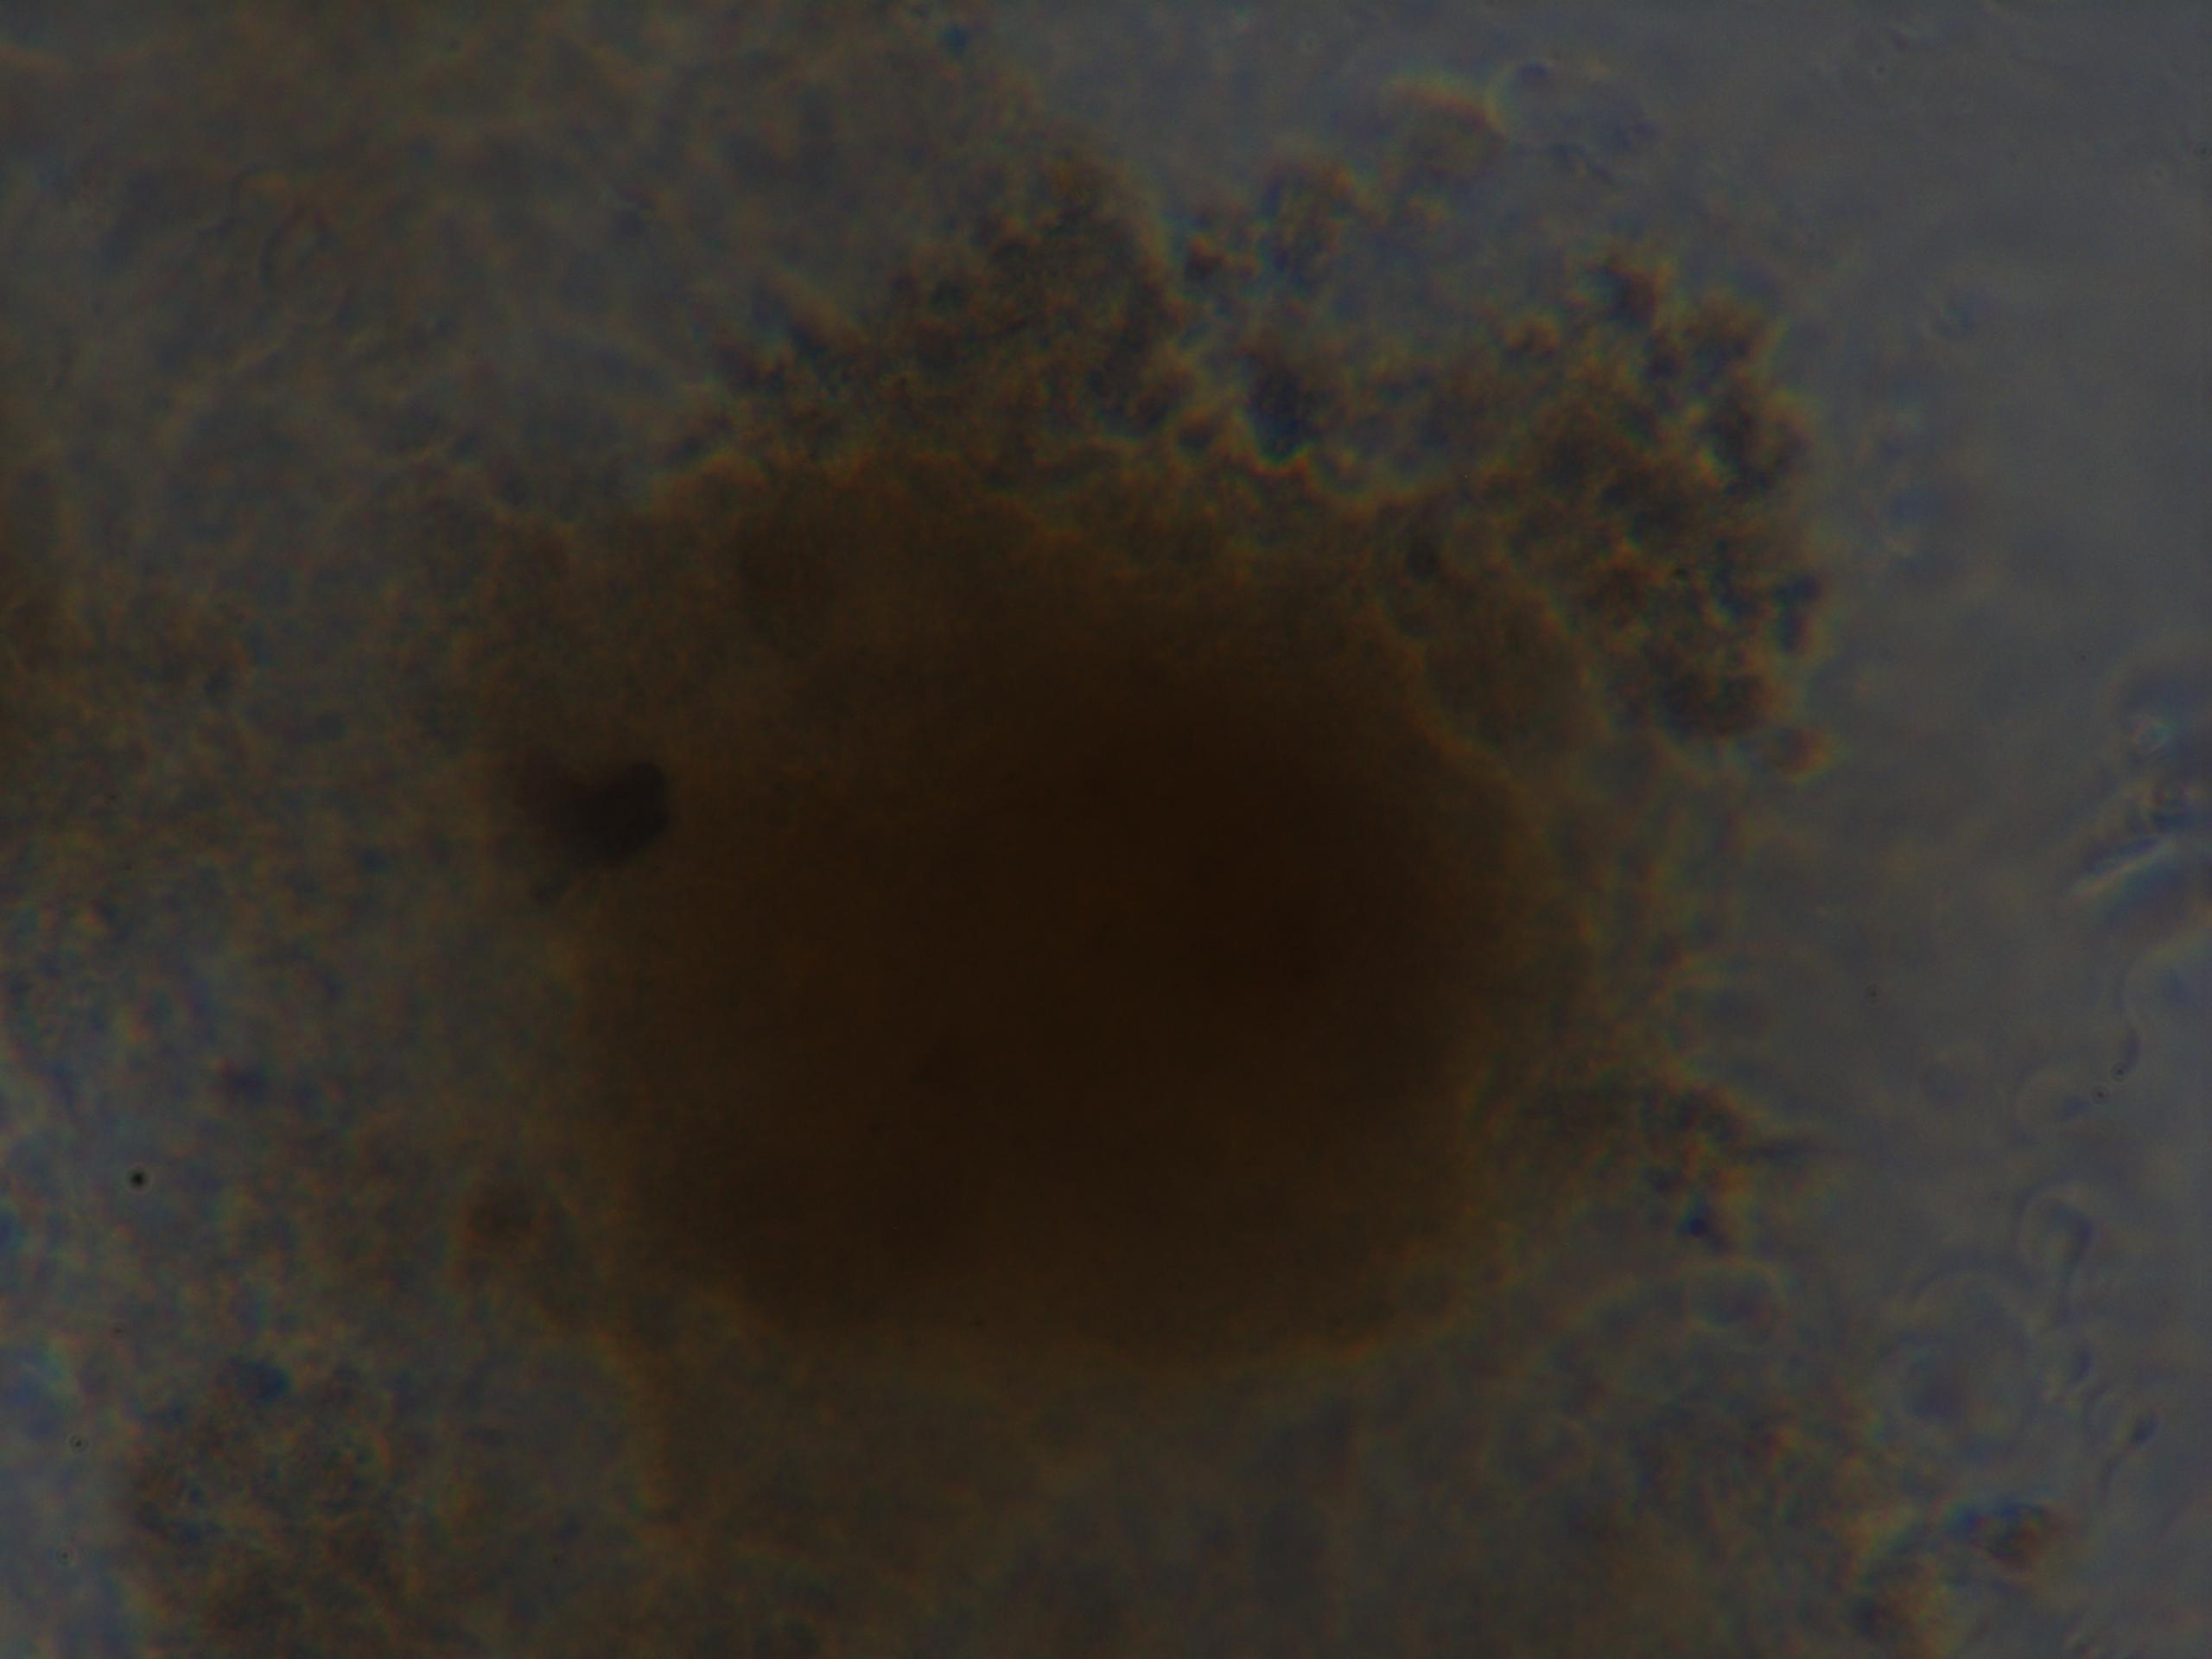spherical_floc: (352, 263, 1820, 1459)
